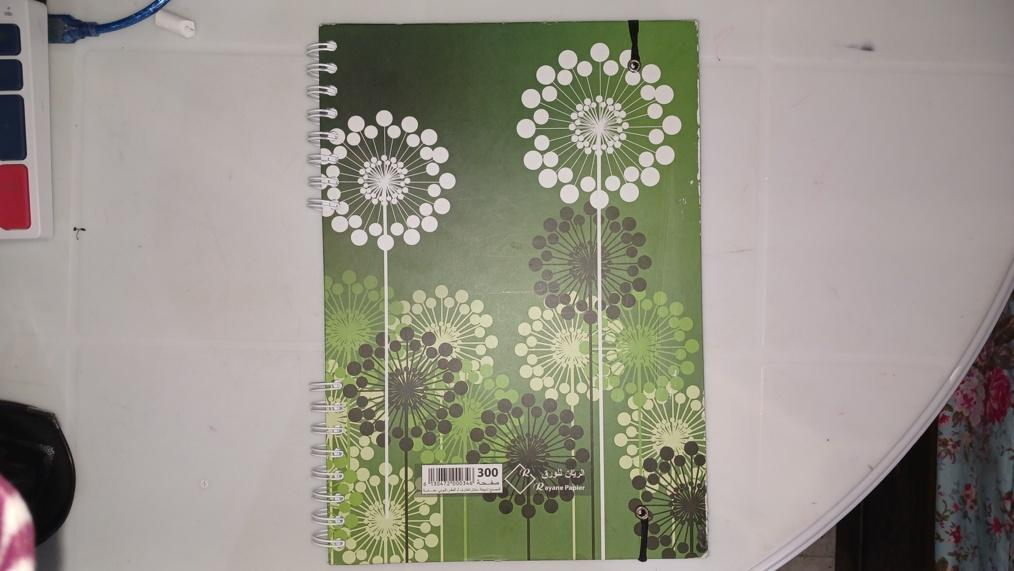notebook: (310, 21, 703, 571)
